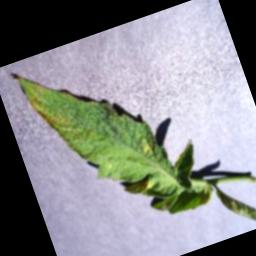Leaf_Mold: (27, 87, 75, 149), (137, 134, 159, 157)
